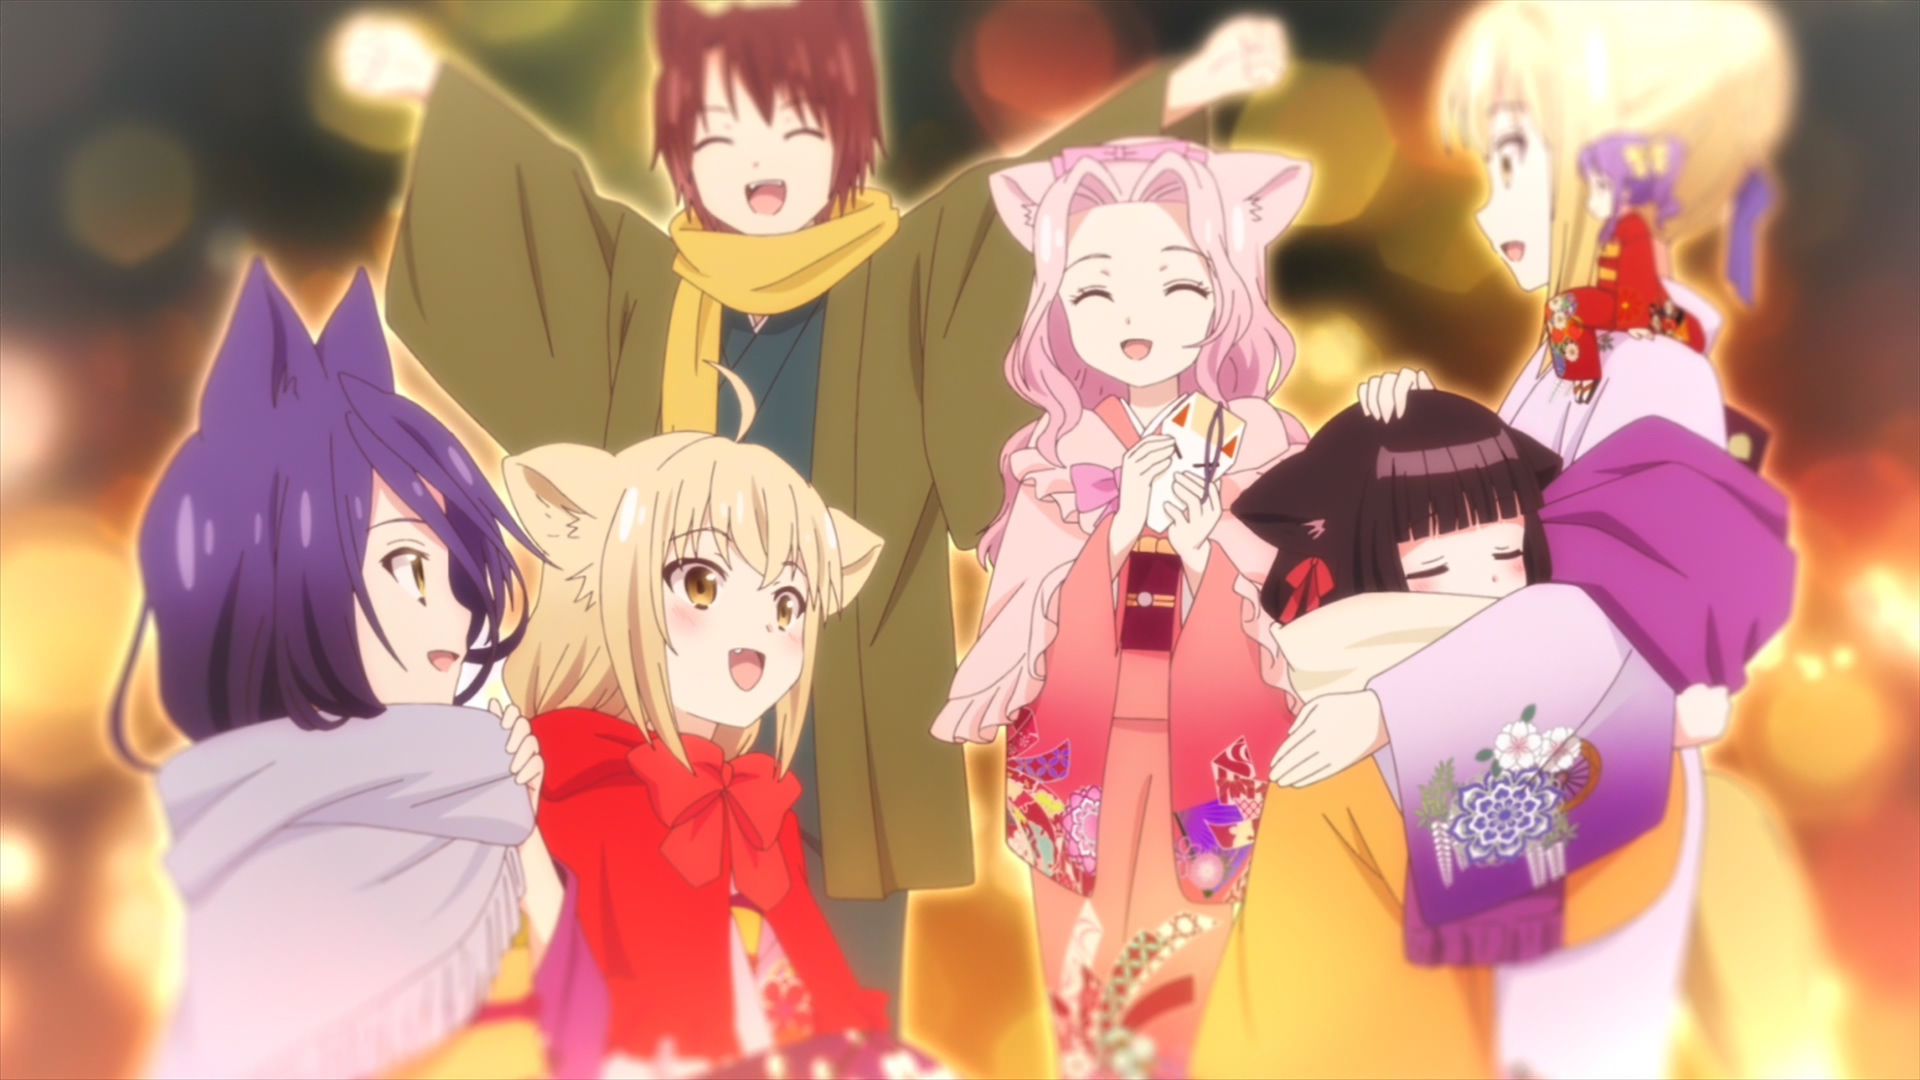枣: (330, 1, 1294, 1043)
柚: (502, 361, 940, 1080)
桐: (1270, 1, 1797, 1080)
樱: (1187, 390, 1563, 1080)
皋: (104, 253, 564, 1080)
莲: (930, 135, 1316, 1080)
